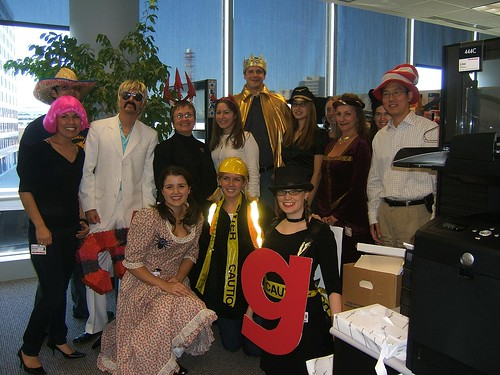person hardhat: (199, 155, 268, 342)
